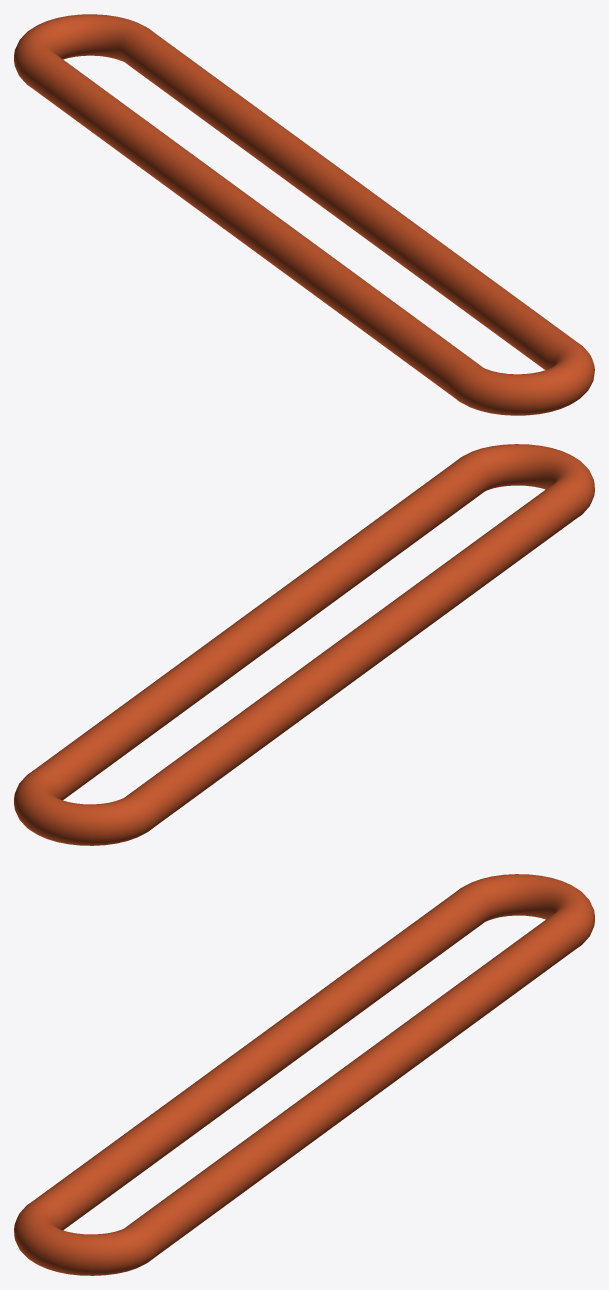
File: SM_Band2.FBX
The picture shows the model from 3 angles, top to bottom: view 1: azimuth 30°, elevation 25°; view 2: azimuth 150°, elevation 25°; view 3: azimuth 330°, elevation 25°; orthographic projection.
Visible parts, largest first — view 1: SM_Band2; view 2: SM_Band2; view 3: SM_Band2.
Part boxes in pixels (box(x1,y1,x2,y2)): SM_Band2: box(14, 14, 594, 415); SM_Band2: box(14, 444, 594, 845); SM_Band2: box(14, 874, 594, 1275).
Bounding box in the file's own units: 72.96 × 480 × 19.78.
